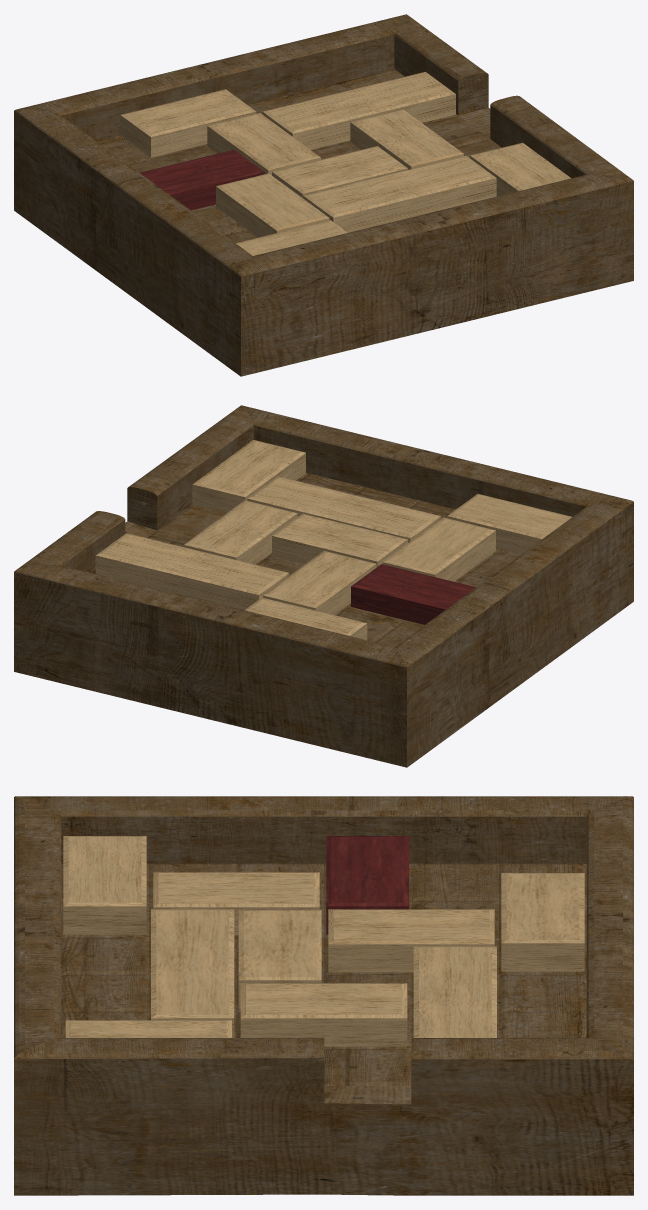
File: Move The Block.fbx
The picture shows the model from 3 angles, top to bottom: view 1: azimuth 30°, elevation 25°; view 2: azimuth 150°, elevation 25°; view 3: azimuth 270°, elevation 25°; orthographic projection. The views are drawn at different scales.
Parts seen in each view (by area): view 1: Cube, Cube.009, Cube.010, Cube.001, Cube.004, Cube.005, Cube.006, Cube.008, Cube.003, Cube.007, Cube.002; view 2: Cube, Cube.010, Cube.009, Cube.007, Cube.008, Cube.004, Cube.003, Cube.005, Cube.006, Cube.002, Cube.001; view 3: Cube, Cube.006, Cube.009, Cube.005, Cube.001, Cube.002, Cube.010, Cube.004, Cube.003, Cube.008, Cube.007.
Boxes of the visible parts, x1=… form: Cube: x1=14, y1=14, x2=633, y2=376; Cube.009: x1=303, y1=156, x2=496, y2=232; Cube.010: x1=262, y1=72, x2=455, y2=149; Cube.001: x1=120, y1=89, x2=256, y2=157; Cube.004: x1=216, y1=173, x2=329, y2=237; Cube.005: x1=207, y1=113, x2=320, y2=175; Cube.006: x1=350, y1=109, x2=463, y2=169; Cube.008: x1=140, y1=149, x2=264, y2=210; Cube.003: x1=272, y1=146, x2=407, y2=197; Cube.007: x1=470, y1=142, x2=570, y2=196; Cube.002: x1=236, y1=220, x2=347, y2=255; Cube: x1=14, y1=405, x2=633, y2=767; Cube.010: x1=95, y1=533, x2=289, y2=610; Cube.009: x1=247, y1=476, x2=440, y2=542; Cube.007: x1=192, y1=440, x2=305, y2=513; Cube.008: x1=351, y1=564, x2=475, y2=624; Cube.004: x1=382, y1=517, x2=495, y2=581; Cube.003: x1=272, y1=513, x2=407, y2=567; Cube.005: x1=263, y1=551, x2=376, y2=614; Cube.006: x1=184, y1=500, x2=297, y2=564; Cube.002: x1=447, y1=494, x2=571, y2=554; Cube.001: x1=245, y1=597, x2=367, y2=639; Cube: x1=14, y1=796, x2=633, y2=1195; Cube.006: x1=240, y1=983, x2=407, y2=1046; Cube.009: x1=151, y1=909, x2=234, y2=1037; Cube.005: x1=328, y1=909, x2=494, y2=972; Cube.001: x1=501, y1=873, x2=584, y2=971; Cube.002: x1=63, y1=836, x2=146, y2=934; Cube.010: x1=413, y1=946, x2=496, y2=1037; Cube.004: x1=153, y1=872, x2=319, y2=935; Cube.003: x1=238, y1=910, x2=321, y2=1008; Cube.008: x1=326, y1=836, x2=409, y2=934; Cube.007: x1=65, y1=1020, x2=231, y2=1037.
Bounding box in the file's own units: 80 × 20.1 × 80.
